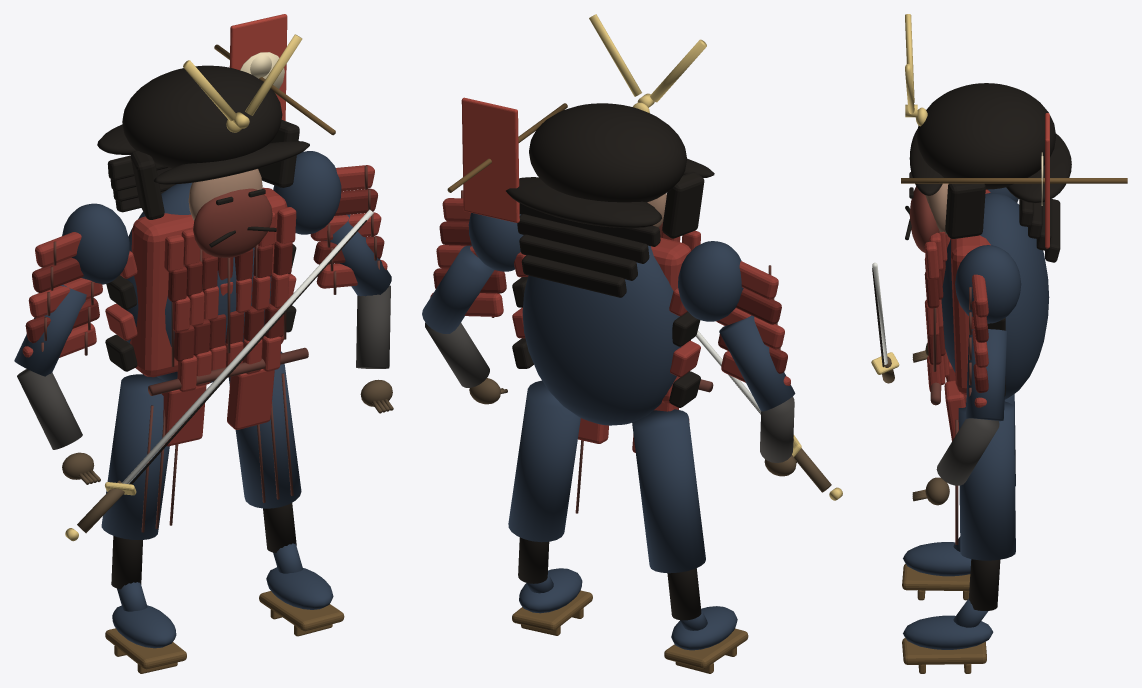
File: takeda-01.glb
3 renders of one model, left to right at view 1: azimuth 30°, elevation 25°; view 2: azimuth 150°, elevation 25°; view 3: azimuth 270°, elevation 25°, orthographic. The views are drawn at different scales.
Visible parts, largest first — view 1: kabuto_helmet_bowl, left_hakama_outer_fold, do_cuirass_core, right_hakama_outer_fold, mempo_cheek_mask, left_rounded_shoulder_undercloth, right_rounded_shoulder_undercloth, left_forearm_kote, helmet_front_brim, right_forearm_kote, left_upper_arm_cloth, banner_cloth (+49 smaller); view 2: cloth_torso_underlayer, kabuto_helmet_bowl, left_hakama_outer_fold, right_hakama_outer_fold, banner_cloth, left_rounded_shoulder_undercloth, helmet_rear_flare, left_upper_arm_cloth, right_upper_arm_cloth, shikoro_neck_guard_1, shikoro_neck_guard_2, right_rounded_shoulder_undercloth (+24 smaller); view 3: kabuto_helmet_bowl, cloth_torso_underlayer, right_hakama_outer_fold, right_rounded_shoulder_undercloth, right_upper_arm_cloth, right_forearm_kote, right_tabi_sock, do_cuirass_core, right_fukigaeshi_flare, left_tabi_sock, helmet_rear_flare, right_geta_sole (+18 smaller).
Part boxes in pixels (left/top/right/bottom): kabuto_helmet_bowl: left=122, top=65, right=282, bottom=168; left_hakama_outer_fold: left=101, top=374, right=169, bottom=539; do_cuirass_core: left=130, top=187, right=287, bottom=377; right_hakama_outer_fold: left=228, top=351, right=301, bottom=508; mempo_cheek_mask: left=193, top=188, right=272, bottom=257; left_rounded_shoulder_undercloth: left=62, top=203, right=129, bottom=284; right_rounded_shoulder_undercloth: left=273, top=151, right=341, bottom=234; left_forearm_kote: left=17, top=369, right=82, bottom=449; helmet_front_brim: left=154, top=141, right=309, bottom=184; right_forearm_kote: left=356, top=285, right=390, bottom=368; left_upper_arm_cloth: left=14, top=284, right=86, bottom=376; banner_cloth: left=229, top=14, right=287, bottom=120; cloth_torso_underlayer: left=522, top=245, right=681, bottom=425; kabuto_helmet_bowl: left=529, top=103, right=686, bottom=202; left_hakama_outer_fold: left=632, top=409, right=705, bottom=573; right_hakama_outer_fold: left=508, top=380, right=580, bottom=542; banner_cloth: left=461, top=97, right=519, bottom=222; left_rounded_shoulder_undercloth: left=678, top=241, right=743, bottom=321; helmet_rear_flare: left=506, top=177, right=661, bottom=227; left_upper_arm_cloth: left=719, top=315, right=795, bottom=411; right_upper_arm_cloth: left=422, top=245, right=494, bottom=333; shikoro_neck_guard_1: left=517, top=214, right=649, bottom=263; shikoro_neck_guard_2: left=519, top=234, right=637, bottom=280; right_rounded_shoulder_undercloth: left=468, top=213, right=523, bottom=271; kabuto_helmet_bowl: left=916, top=83, right=1055, bottom=189; cloth_torso_underlayer: left=941, top=193, right=1049, bottom=399; right_hakama_outer_fold: left=958, top=401, right=1015, bottom=560; right_rounded_shoulder_undercloth: left=955, top=245, right=1021, bottom=323; right_upper_arm_cloth: left=965, top=329, right=1007, bottom=421; right_forearm_kote: left=936, top=418, right=999, bottom=485; right_tabi_sock: left=903, top=615, right=993, bottom=649; do_cuirass_core: left=951, top=189, right=990, bottom=394; right_fukigaeshi_flare: left=945, top=183, right=985, bottom=238; left_tabi_sock: left=903, top=542, right=971, bottom=576; helmet_rear_flare: left=1006, top=133, right=1071, bottom=203; right_geta_sole: left=902, top=638, right=986, bottom=664.
Bounding box in the file's own units: 1.19 × 1.87 × 0.7352.
